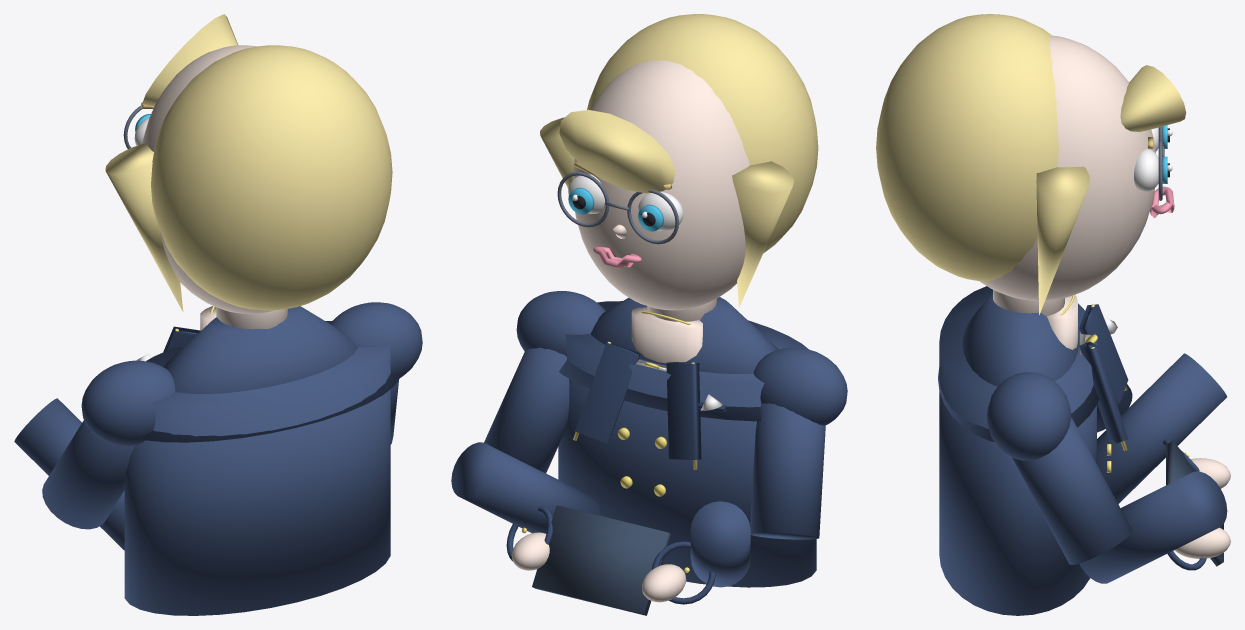
Rendered from aurore_lowpoly_stylized.glb.
3 renders of one model, left to right at view 1: azimuth 30°, elevation 25°; view 2: azimuth 150°, elevation 25°; view 3: azimuth 270°, elevation 25°, orthographic. The views are drawn at different scales.
Visible parts, largest first — view 1: Aurore_Jacket_Torso, Aurore_Hair_Crown, Aurore_Trapezius_Shoulders, Aurore_UpperArm_R, Aurore_Shoulder_R, Aurore_Hair_Strand_R, Aurore_Shoulder_L, Aurore_Forearm_R, Aurore_Head, Aurore_Hair_Bangs, Aurore_Neck; view 2: Aurore_Jacket_Torso, Aurore_Head, Aurore_Hair_Crown, Aurore_Cyber_Tablet, Aurore_UpperArm_R, Aurore_Trapezius_Shoulders, Aurore_Forearm_L, Aurore_UpperArm_L, Aurore_Hair_Bangs, Aurore_Shoulder_R, Aurore_Forearm_R, Aurore_Hair_Strand_R (+14 smaller); view 3: Aurore_Hair_Crown, Aurore_Jacket_Torso, Aurore_Head, Aurore_UpperArm_L, Aurore_Forearm_R, Aurore_Forearm_L, Aurore_Trapezius_Shoulders, Aurore_Shoulder_L, Aurore_Hair_Strand_L, Aurore_Hair_Bangs, Aurore_Lapel_L, Aurore_Lapel_R (+7 smaller).
Boxes of the visible parts, x1,y1,x2,y2 form: Aurore_Jacket_Torso: [124, 321, 390, 615]; Aurore_Hair_Crown: [151, 45, 392, 310]; Aurore_Trapezius_Shoulders: [138, 306, 400, 442]; Aurore_UpperArm_R: [42, 420, 134, 529]; Aurore_Shoulder_R: [81, 360, 175, 445]; Aurore_Hair_Strand_R: [105, 143, 183, 311]; Aurore_Shoulder_L: [330, 302, 422, 377]; Aurore_Forearm_R: [14, 398, 124, 550]; Aurore_Head: [142, 45, 272, 313]; Aurore_Hair_Bangs: [142, 14, 237, 107]; Aurore_Neck: [216, 307, 287, 329]; Aurore_Jacket_Torso: [558, 301, 816, 587]; Aurore_Head: [572, 60, 749, 310]; Aurore_Hair_Crown: [587, 14, 818, 253]; Aurore_Cyber_Tablet: [532, 505, 671, 615]; Aurore_UpperArm_R: [750, 403, 825, 539]; Aurore_Trapezius_Shoulders: [559, 297, 778, 421]; Aurore_Forearm_L: [451, 442, 599, 533]; Aurore_UpperArm_L: [484, 347, 569, 473]; Aurore_Hair_Bangs: [559, 109, 675, 193]; Aurore_Shoulder_R: [753, 347, 847, 425]; Aurore_Forearm_R: [690, 501, 750, 587]; Aurore_Hair_Strand_R: [732, 161, 793, 307]; Aurore_Hair_Crown: [876, 14, 1058, 281]; Aurore_Jacket_Torso: [939, 286, 1096, 615]; Aurore_Head: [979, 35, 1155, 300]; Aurore_UpperArm_L: [1012, 417, 1132, 564]; Aurore_Forearm_R: [1097, 353, 1226, 503]; Aurore_Forearm_L: [1079, 471, 1227, 583]; Aurore_Trapezius_Shoulders: [938, 293, 1099, 442]; Aurore_Shoulder_L: [986, 372, 1071, 460]; Aurore_Hair_Strand_L: [1036, 166, 1089, 314]; Aurore_Hair_Bangs: [1120, 65, 1186, 131]; Aurore_Lapel_L: [1079, 341, 1127, 443]; Aurore_Lapel_R: [1079, 304, 1128, 403].
Size of the model in its own units: 0.718 by 1.06 by 0.642.
